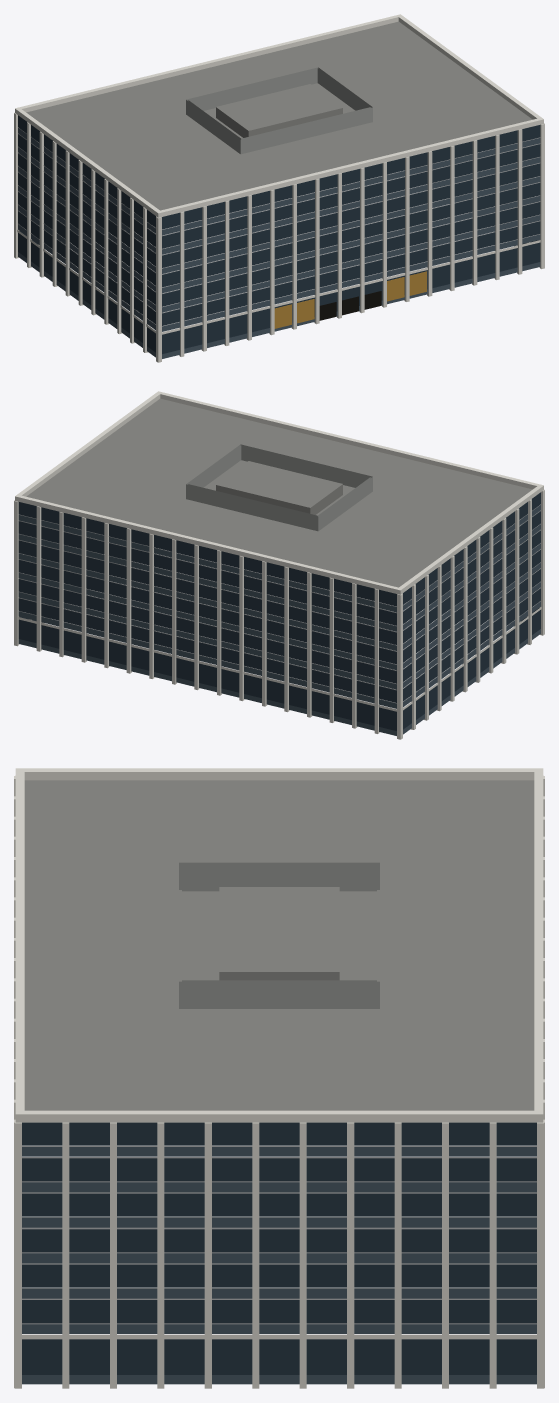
The model's file is federal-building-1961.glb.
3 renders of one model, top to bottom at view 1: azimuth 30°, elevation 25°; view 2: azimuth 150°, elevation 25°; view 3: azimuth 270°, elevation 25°, orthographic. The views are drawn at different scales.
Parts seen in each view (by area): view 1: federal_roof, federal_glass, federal_stone, federal_spandrel, federal_alum, federal_lattice, federal_gold, federal_shadow; view 2: federal_roof, federal_glass, federal_stone, federal_spandrel, federal_alum, federal_lattice; view 3: federal_roof, federal_glass, federal_stone, federal_spandrel, federal_lattice, federal_alum.
Boxes of the visible parts, box(x1,y1,x2,y2) form: federal_roof: box(26, 21, 532, 210); federal_glass: box(18, 115, 540, 353); federal_stone: box(14, 14, 544, 362); federal_spandrel: box(18, 128, 540, 358); federal_alum: box(18, 127, 540, 326); federal_lattice: box(186, 67, 372, 154); federal_gold: box(274, 271, 426, 328); federal_shadow: box(319, 291, 381, 320); federal_roof: box(26, 398, 532, 587); federal_glass: box(18, 492, 540, 730); federal_stone: box(14, 391, 544, 739); federal_spandrel: box(18, 505, 540, 735); federal_alum: box(18, 504, 540, 703); federal_lattice: box(186, 444, 372, 531); federal_roof: box(24, 780, 534, 1110); federal_glass: box(22, 1122, 536, 1374); federal_stone: box(14, 768, 544, 1388); federal_spandrel: box(22, 1147, 536, 1384); federal_lattice: box(179, 862, 379, 1008); federal_alum: box(22, 1146, 536, 1324).
Size of the model in its own units: 81.9 by 32.2 by 52.9.
